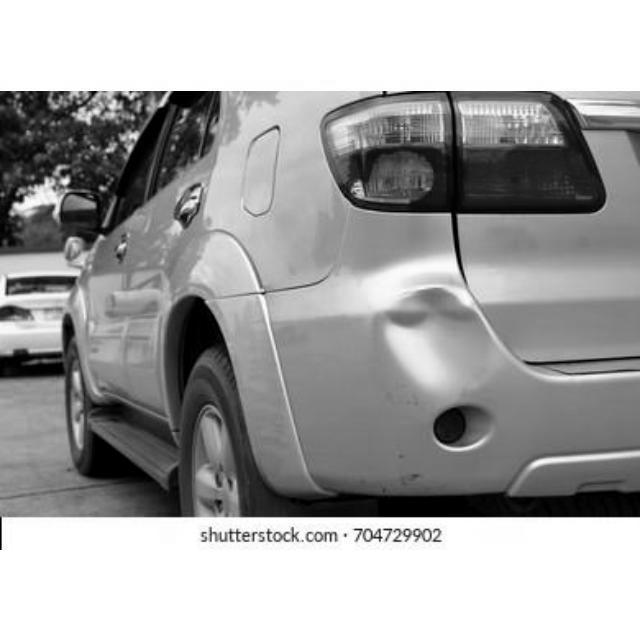rear-bumper-dent: (254, 269, 639, 503)
